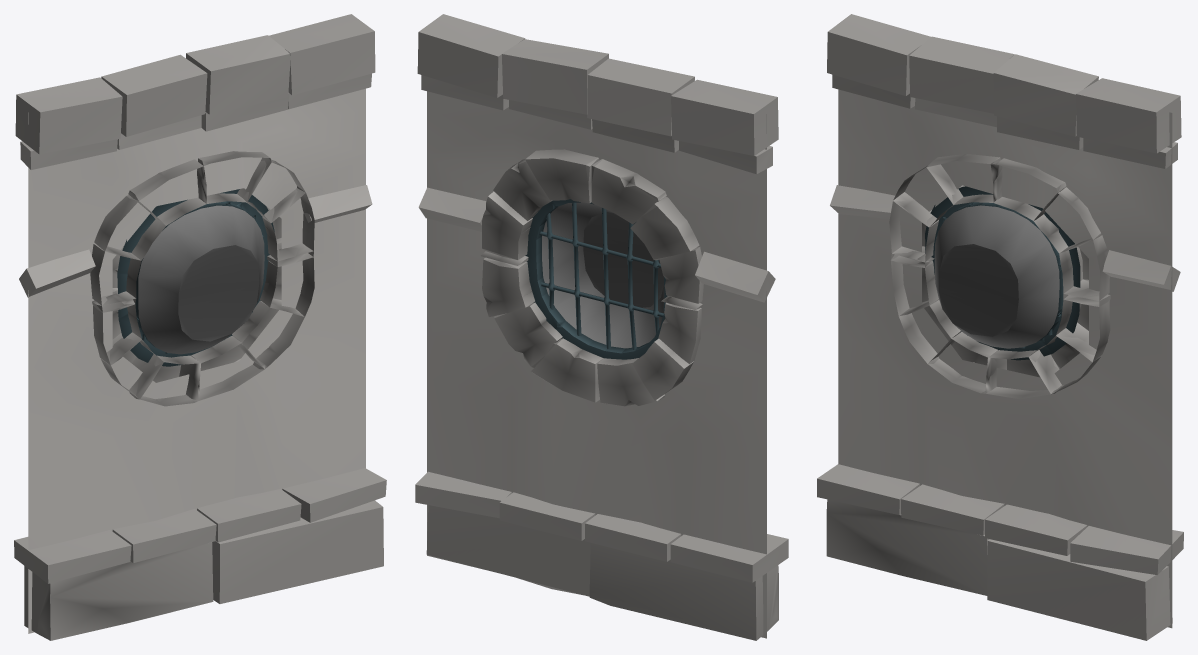
File: wall_window_A_LOW.FBX
3 views of the same model, side by side, from view 1: azimuth 30°, elevation 25°; view 2: azimuth 150°, elevation 25°; view 3: azimuth 330°, elevation 25° (orthographic).
Parts seen in each view (by area): view 1: wall_window_A_LOW; view 2: wall_window_A_LOW; view 3: wall_window_A_LOW.
Boxes of the visible parts, bbox=[...] form: wall_window_A_LOW: bbox=[14, 14, 386, 640]; wall_window_A_LOW: bbox=[415, 14, 788, 640]; wall_window_A_LOW: bbox=[817, 14, 1183, 640].
Bounding box in the file's own units: 4.06 × 6.02 × 0.8486.
